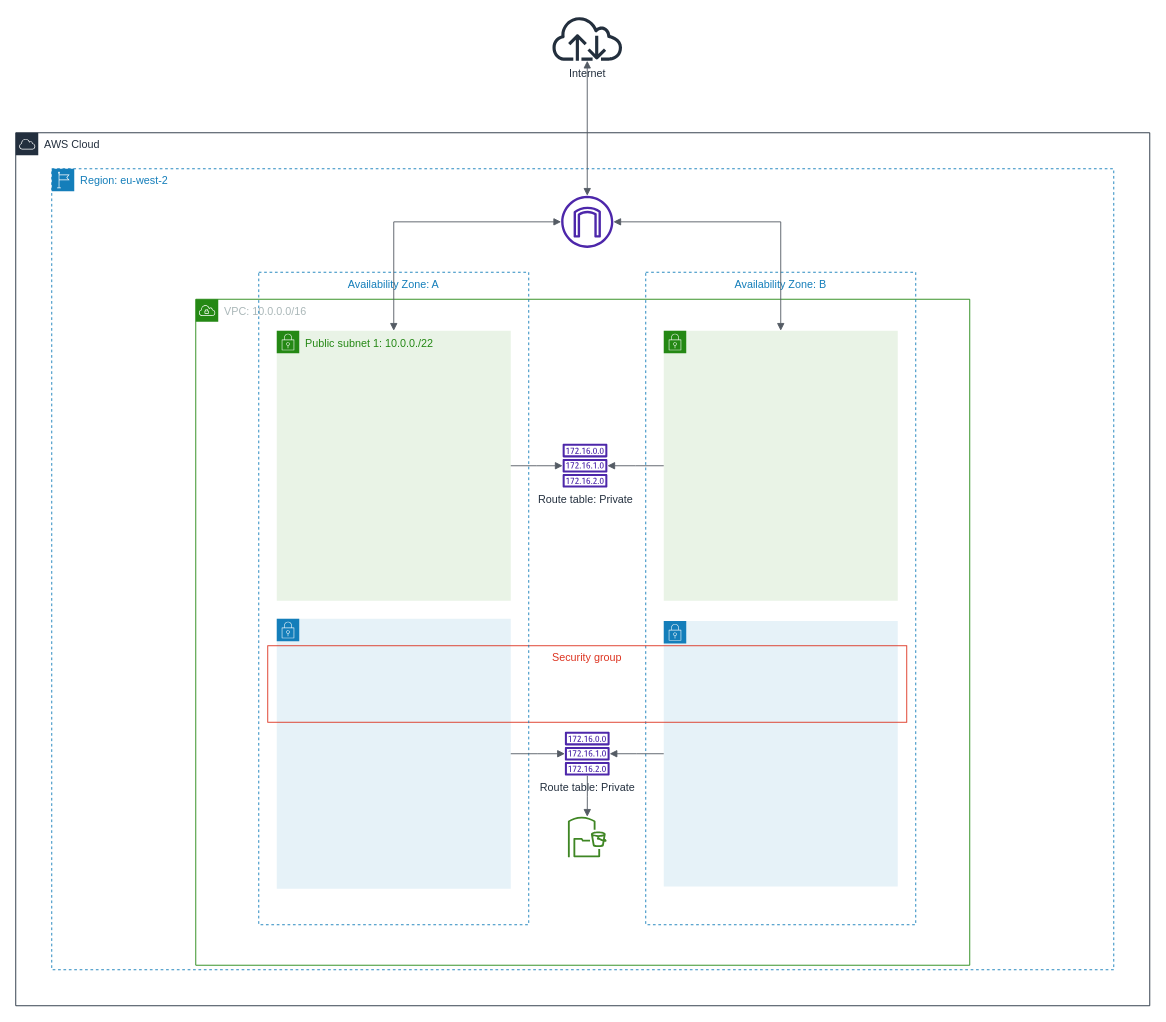
The diagram is 1166 pixels wide and 1022 high, and some of its shapes have lost their labels. The shapes that lost their labels are listed below. From the top down, each one's centre as x and y in pixels, then its label:
the point at 587,221: Internet Gateway
the point at 780,465: Public subnet 2: 10.0.8./22
the point at 393,753: Private subnet 1: 10.0.20.0/22
the point at 780,753: Private subnet 2: 10.0.28.0/22
the point at 587,836: S3 Gateway Endpoint
